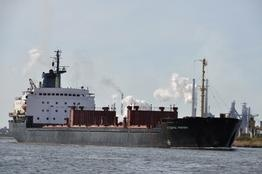Cargoship: (7, 41, 243, 148)
